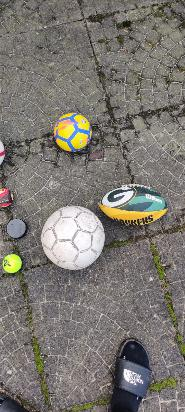Football mini: (52, 110, 93, 156)
Football size 5: (41, 204, 106, 270)
Rugby: (98, 182, 167, 226)
hockey puck: (4, 219, 27, 239)
tennis: (3, 252, 21, 274)
